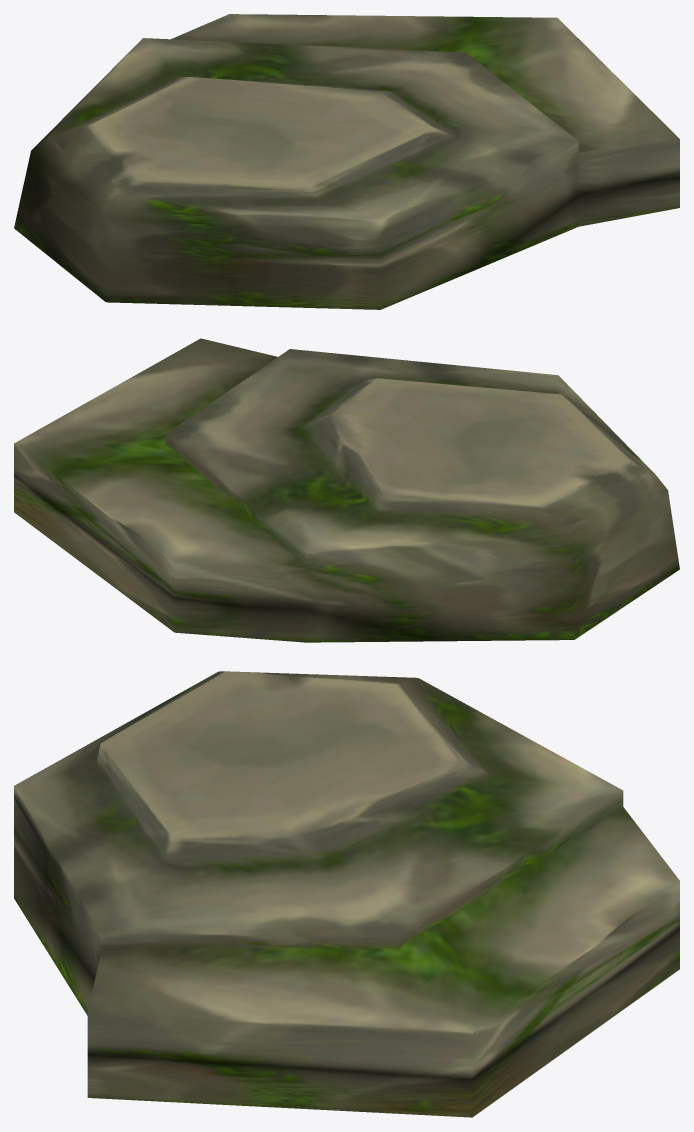
The model's file is RockFormation_4_5 (15).fbx.
3 views of the same model, one above another, from view 1: azimuth 30°, elevation 25°; view 2: azimuth 150°, elevation 25°; view 3: azimuth 270°, elevation 25° (orthographic). The views are drawn at different scales.
Parts seen in each view (by area): view 1: RockFormation_4_5 (15); view 2: RockFormation_4_5 (15); view 3: RockFormation_4_5 (15).
Part boxes in pixels (box(x1,y1,x2,y2)): RockFormation_4_5 (15): box(14, 14, 679, 309); RockFormation_4_5 (15): box(14, 338, 679, 642); RockFormation_4_5 (15): box(14, 671, 679, 1117).
Size of the model in its own units: 335 by 60.67 by 278.
